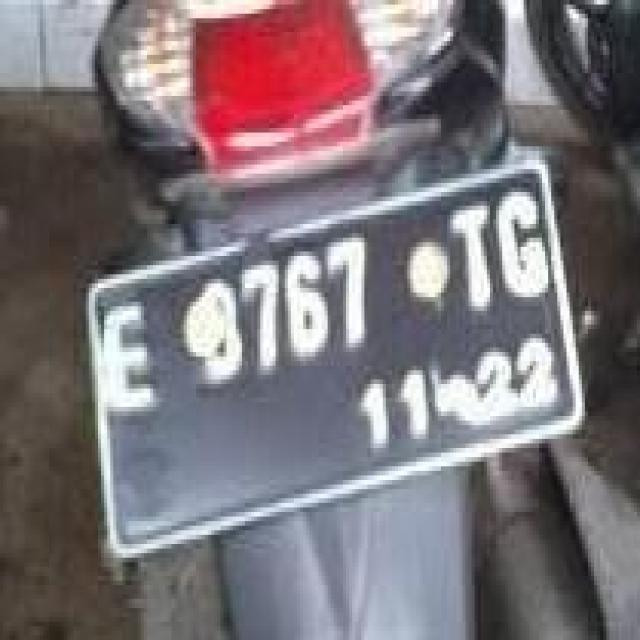6: (282, 252, 331, 356)
7: (238, 256, 286, 380), (331, 234, 374, 348)
8: (190, 284, 246, 389)
E: (100, 297, 160, 412)
G: (494, 185, 550, 309)
T: (450, 204, 499, 308)
